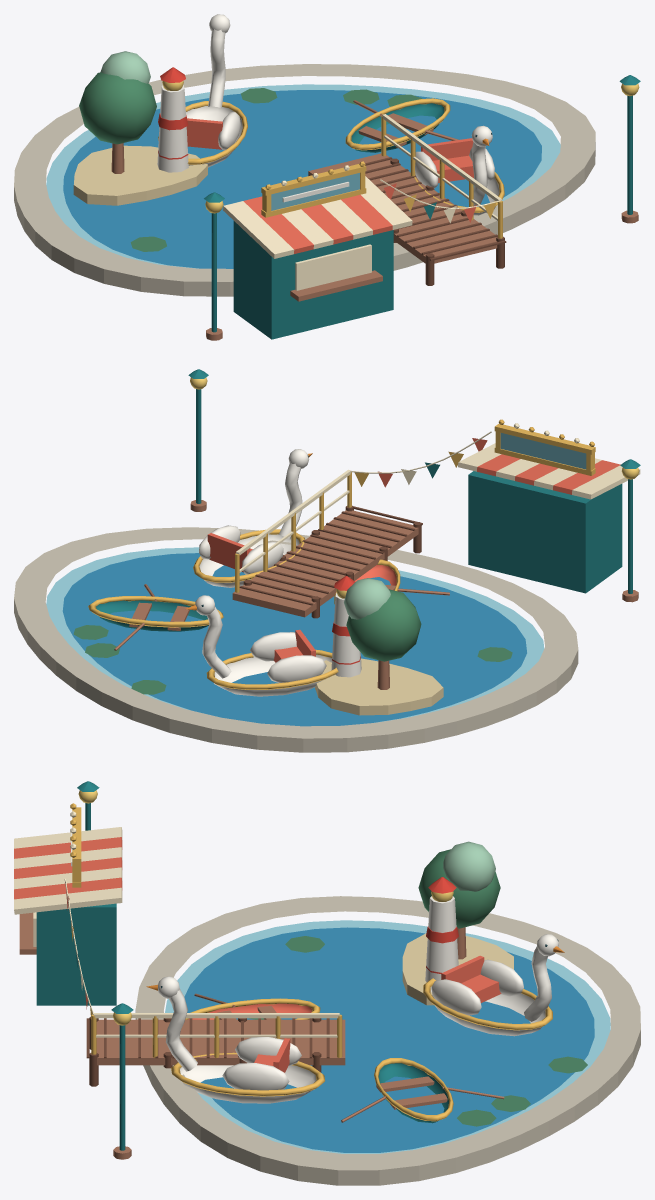
Rendered from ride_boats.glb.
3 views of the same model, one above another, from view 1: azimuth 30°, elevation 25°; view 2: azimuth 150°, elevation 25°; view 3: azimuth 270°, elevation 25° (orthographic). The views are drawn at different scales.
Visible parts, largest first — view 1: ride_boats; view 2: ride_boats; view 3: ride_boats.
Part boxes in pixels (x1=…): ride_boats: x1=14, y1=14, x2=640, y2=340; ride_boats: x1=14, y1=369, x2=640, y2=752; ride_boats: x1=14, y1=781, x2=640, y2=1185.
Size of the model in its own units: 11.35 by 3.03 by 10.97.
